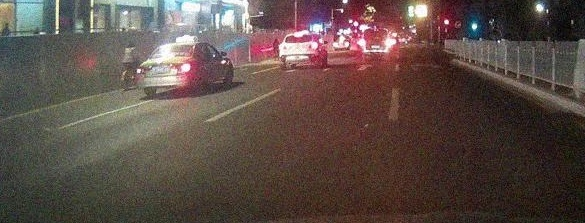L_light: (136, 66, 148, 74)
R_light: (172, 63, 192, 73)
T_light: (166, 45, 179, 47)
night-right: (136, 43, 194, 95)
